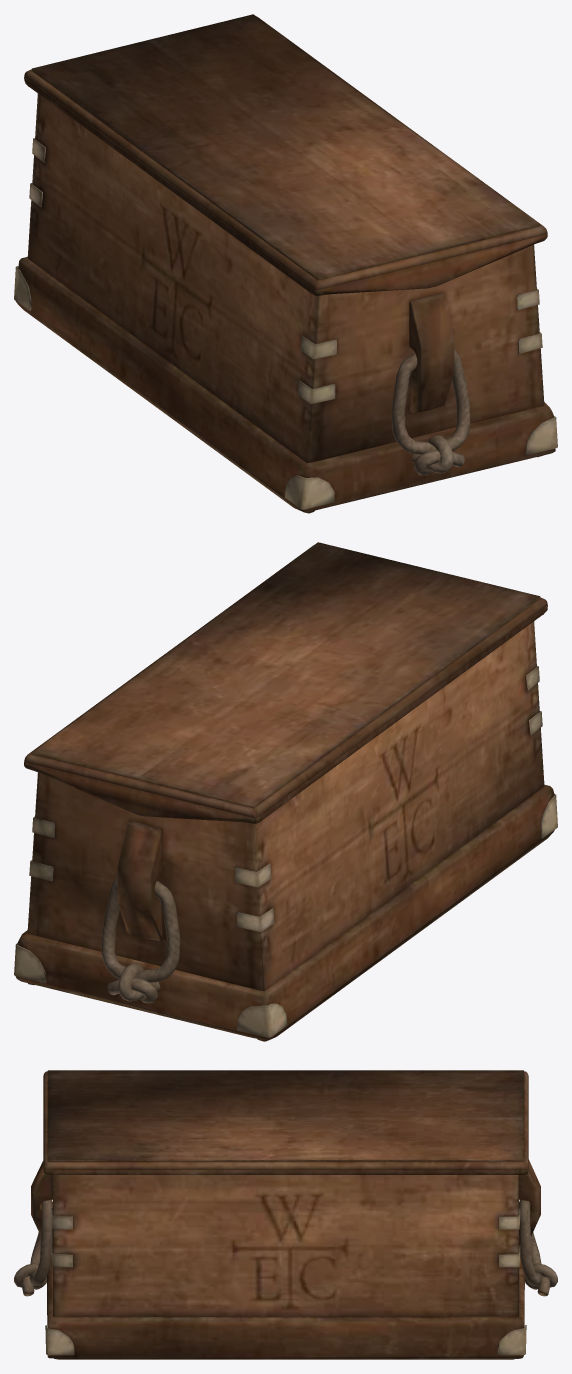
Rendered from crate_lettered.glb.
3 views of the same model, one above another, from view 1: azimuth 30°, elevation 25°; view 2: azimuth 150°, elevation 25°; view 3: azimuth 270°, elevation 25° (orthographic). The views are drawn at different scales.
Parts seen in each view (by area): view 1: wooden_crate_02_crate, wooden_crate_02_lid; view 2: wooden_crate_02_crate, wooden_crate_02_lid; view 3: wooden_crate_02_crate, wooden_crate_02_lid.
Boxes of the visible parts, x1,y1,x2,y2 form: wooden_crate_02_crate: (14, 93, 557, 513); wooden_crate_02_lid: (24, 14, 547, 296); wooden_crate_02_crate: (14, 621, 557, 1041); wooden_crate_02_lid: (24, 542, 547, 823); wooden_crate_02_crate: (14, 1159, 557, 1359); wooden_crate_02_lid: (43, 1070, 528, 1174).
Bounding box in the file's own units: 0.5291 × 0.464 × 1.17.
Materials: 1 (1 with a texture image).
